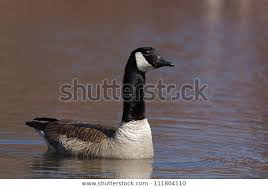goose: (21, 45, 175, 160)
